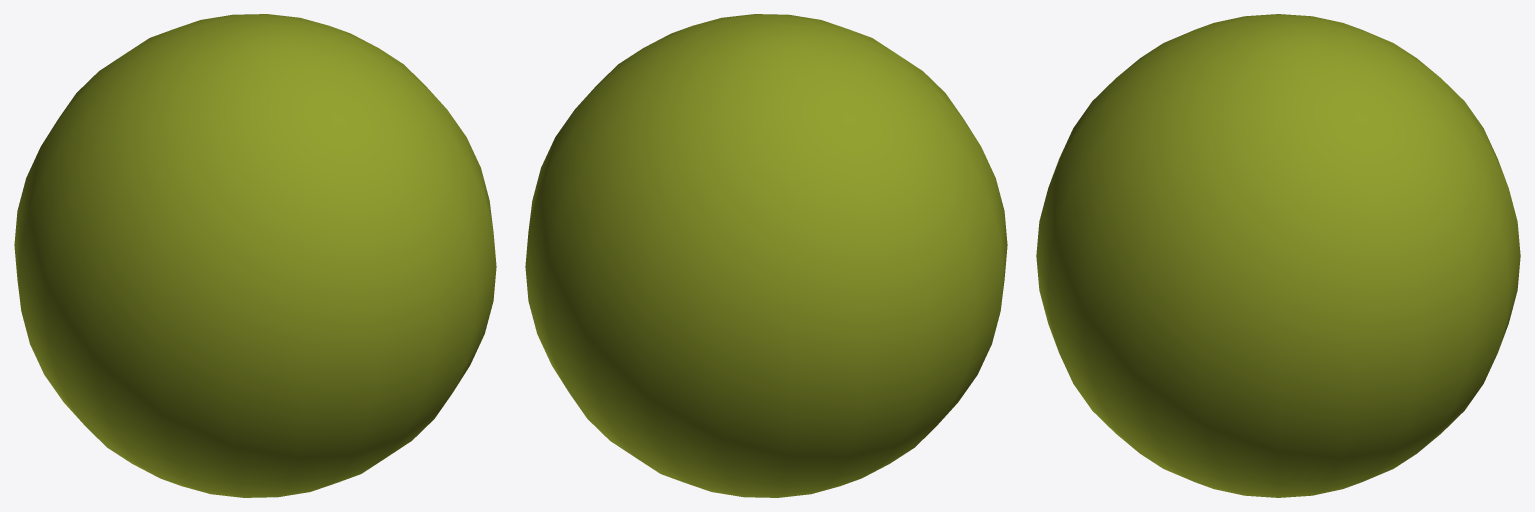
The model's file is firefly.fbx.
3 views of the same model, side by side, from view 1: azimuth 30°, elevation 25°; view 2: azimuth 150°, elevation 25°; view 3: azimuth 270°, elevation 25° (orthographic).
Parts seen in each view (by area): view 1: pSphere1; view 2: pSphere1; view 3: pSphere1.
Boxes of the visible parts, x1=… form: pSphere1: x1=14, y1=14, x2=496, y2=497; pSphere1: x1=525, y1=14, x2=1007, y2=497; pSphere1: x1=1036, y1=14, x2=1520, y2=497.
Size of the model in its own units: 60 by 60 by 60.
